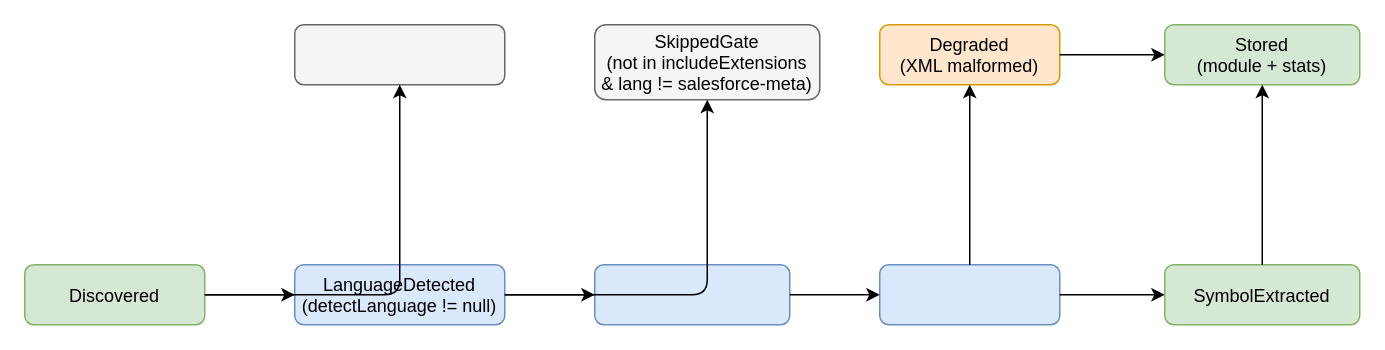
Some shapes in this 1385 by 350 pixel diagram are drawn without their labels. Here are the shapes that lost their labels. From the top down, the centre of each, then its label:
At [399,54]: "SkippedNull (detectLanguage == null)".
At [691,294]: "GateChecked (processFile)".
At [969,294]: "Parsed".
